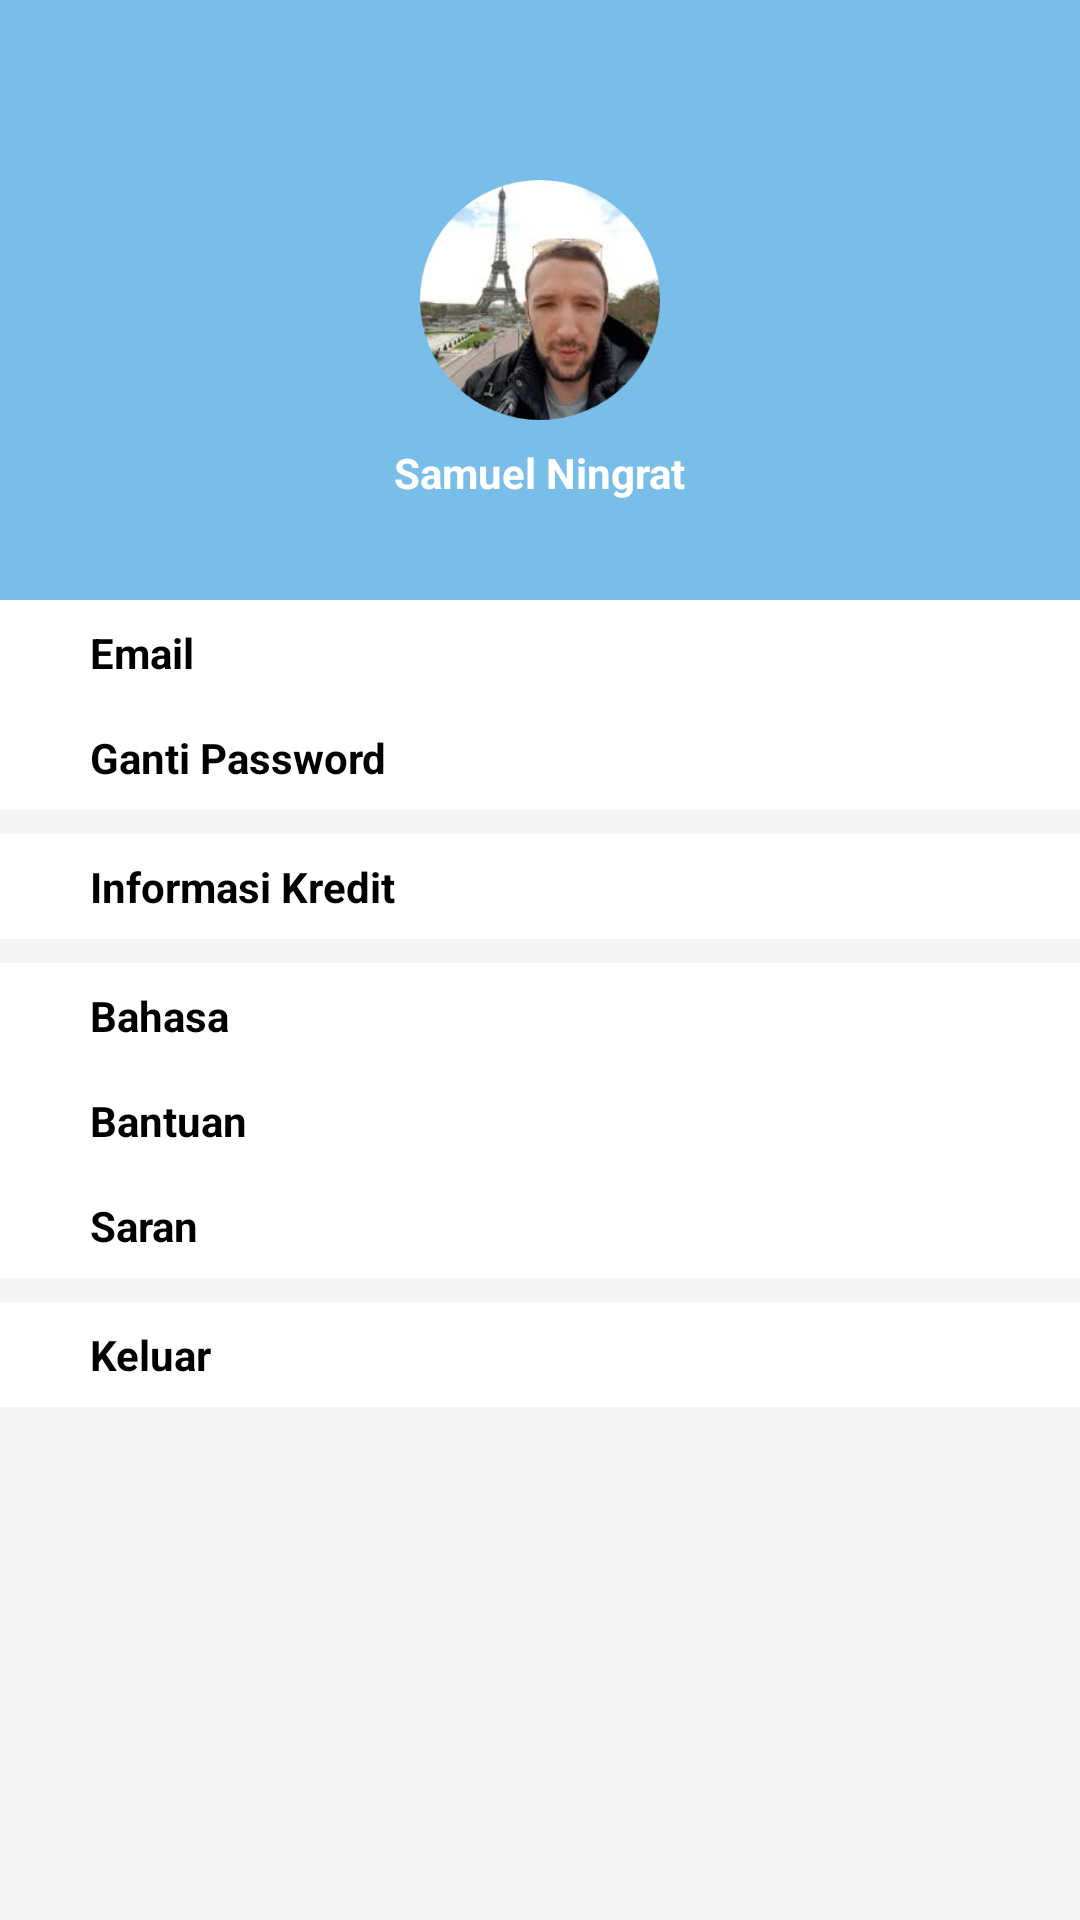

Icons on this 1080×1920 Android screen, each with its box as box=[x1, y1, x2, y2]:
profile: box=[420, 180, 660, 420]
